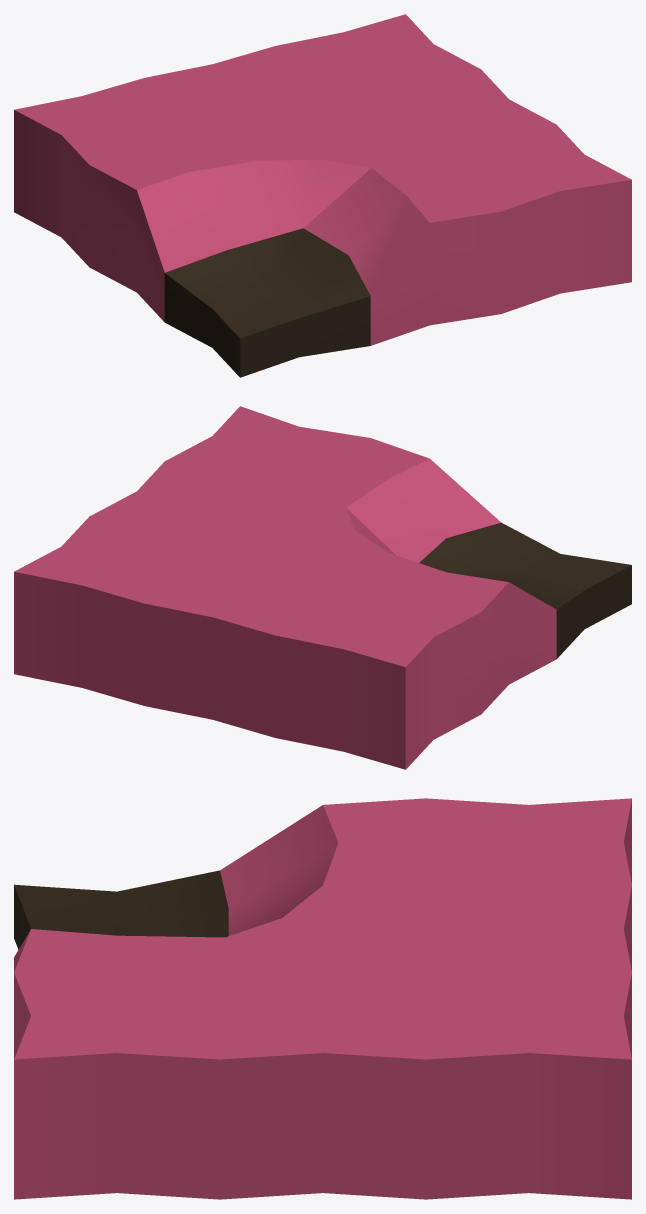
The model's file is jaggeredTile-23a_col_001.fbx.
3 views of the same model, one above another, from view 1: azimuth 30°, elevation 25°; view 2: azimuth 150°, elevation 25°; view 3: azimuth 270°, elevation 25° (orthographic). The views are drawn at different scales.
Visible parts, largest first — view 1: jaggeredTile-23a.col.001; view 2: jaggeredTile-23a.col.001; view 3: jaggeredTile-23a.col.001.
Boxes of the visible parts, x1,y1,x2,y2 form: jaggeredTile-23a.col.001: (14,14,631,377); jaggeredTile-23a.col.001: (14,406,631,769); jaggeredTile-23a.col.001: (14,798,631,1199).
Bounding box in the file's own units: 2 × 0.5 × 2.
1 material, 1 textured.
